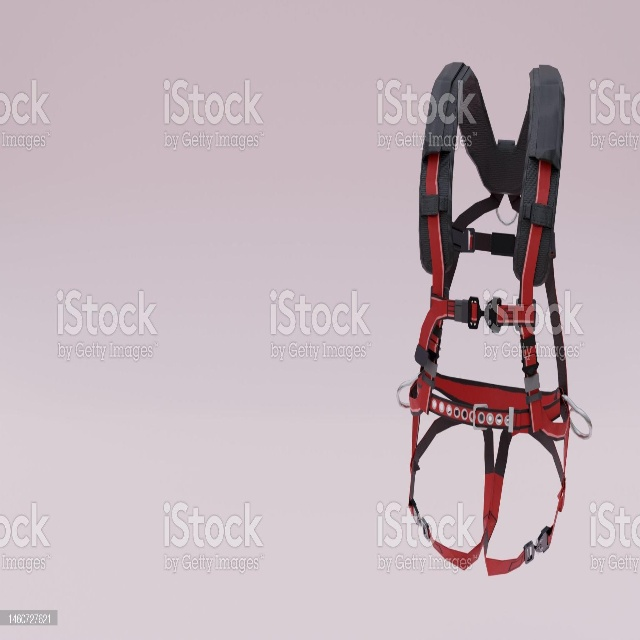Arnes_seguridad: (395, 51, 596, 585)
